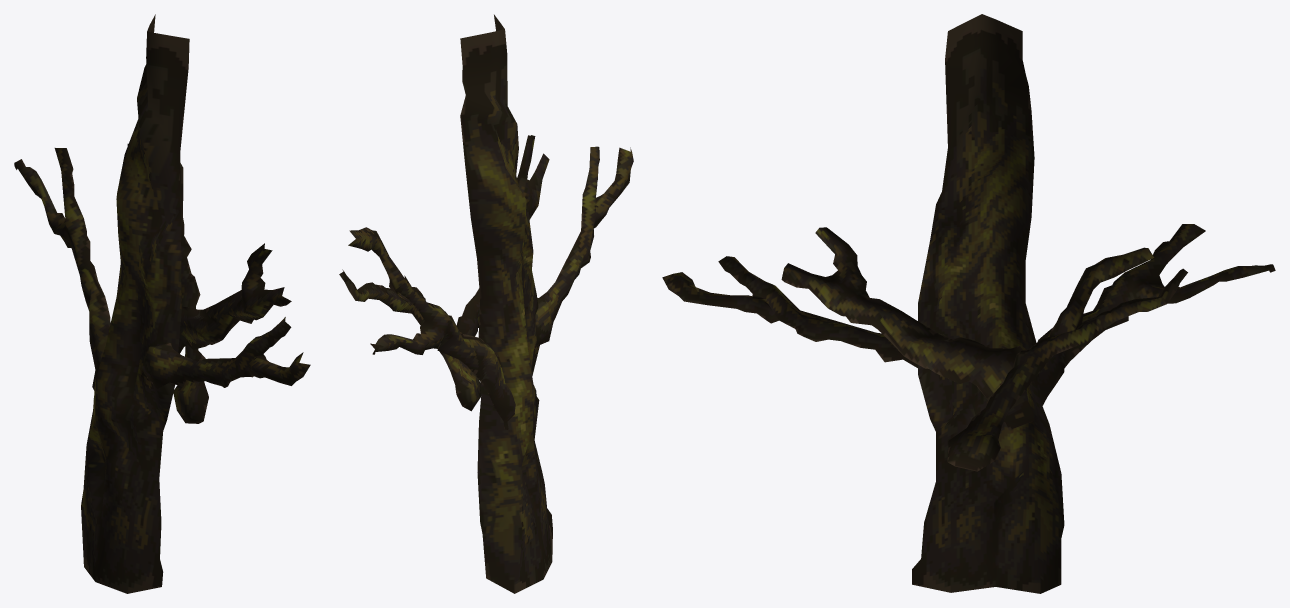
The model's file is EnvFldMD_Tree_G_Treehouse_Indoor_A.FBX.
3 views of the same model, side by side, from view 1: azimuth 30°, elevation 25°; view 2: azimuth 150°, elevation 25°; view 3: azimuth 270°, elevation 25° (orthographic). The views are drawn at different scales.
Parts seen in each view (by area): view 1: EnvFldMD_Tree_G_Treehouse_Indoor_A; view 2: EnvFldMD_Tree_G_Treehouse_Indoor_A; view 3: EnvFldMD_Tree_G_Treehouse_Indoor_A.
Boxes of the visible parts, left/top/right/bottom form: EnvFldMD_Tree_G_Treehouse_Indoor_A: left=14, top=14, right=310, bottom=593; EnvFldMD_Tree_G_Treehouse_Indoor_A: left=339, top=14, right=633, bottom=593; EnvFldMD_Tree_G_Treehouse_Indoor_A: left=662, top=14, right=1275, bottom=593.
Size of the model in its own units: 277 by 1107 by 1027.
1 material, 1 textured.
